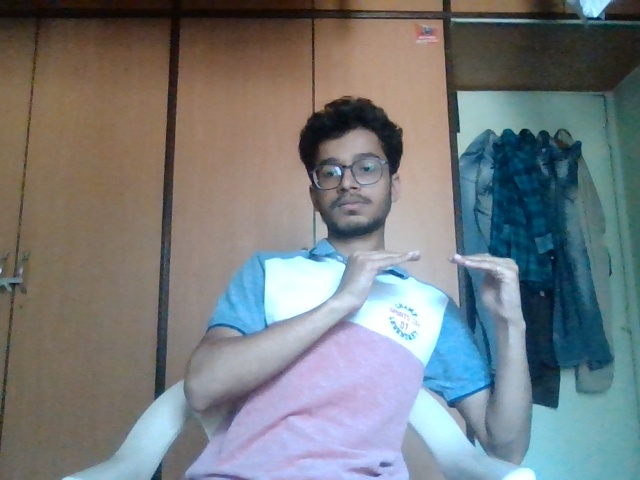afternoon: (329, 232, 542, 364)
